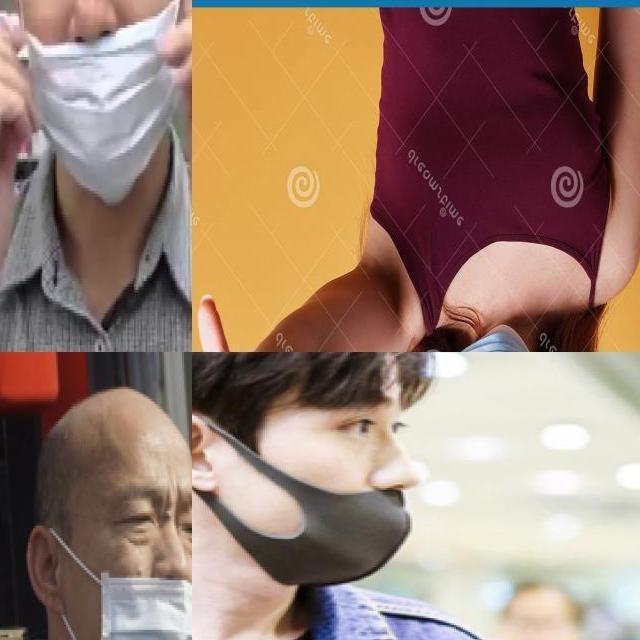hairnet: (219, 433, 432, 580), (24, 0, 164, 192), (44, 526, 191, 639)
